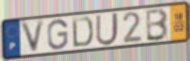2: (121, 11, 143, 45)
B: (145, 7, 170, 43)
D: (71, 16, 95, 49)
G: (46, 18, 69, 51)
U: (95, 11, 120, 47)
V: (19, 17, 47, 56)
